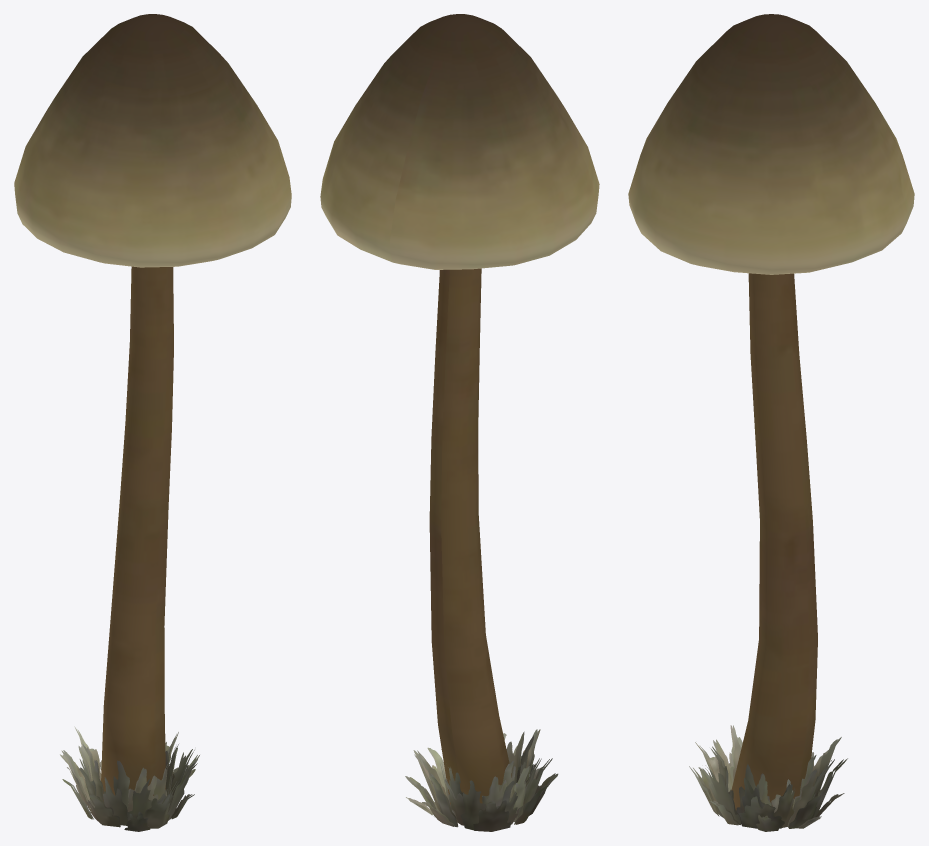
The model's file is mushroom-lamp.glb.
The picture shows the model from 3 angles, left to right: view 1: azimuth 30°, elevation 25°; view 2: azimuth 150°, elevation 25°; view 3: azimuth 270°, elevation 25°; orthographic projection. The views are drawn at different scales.
Size of the model in its own units: 5.71 by 17.7 by 5.71.
2 materials, 2 textured.
